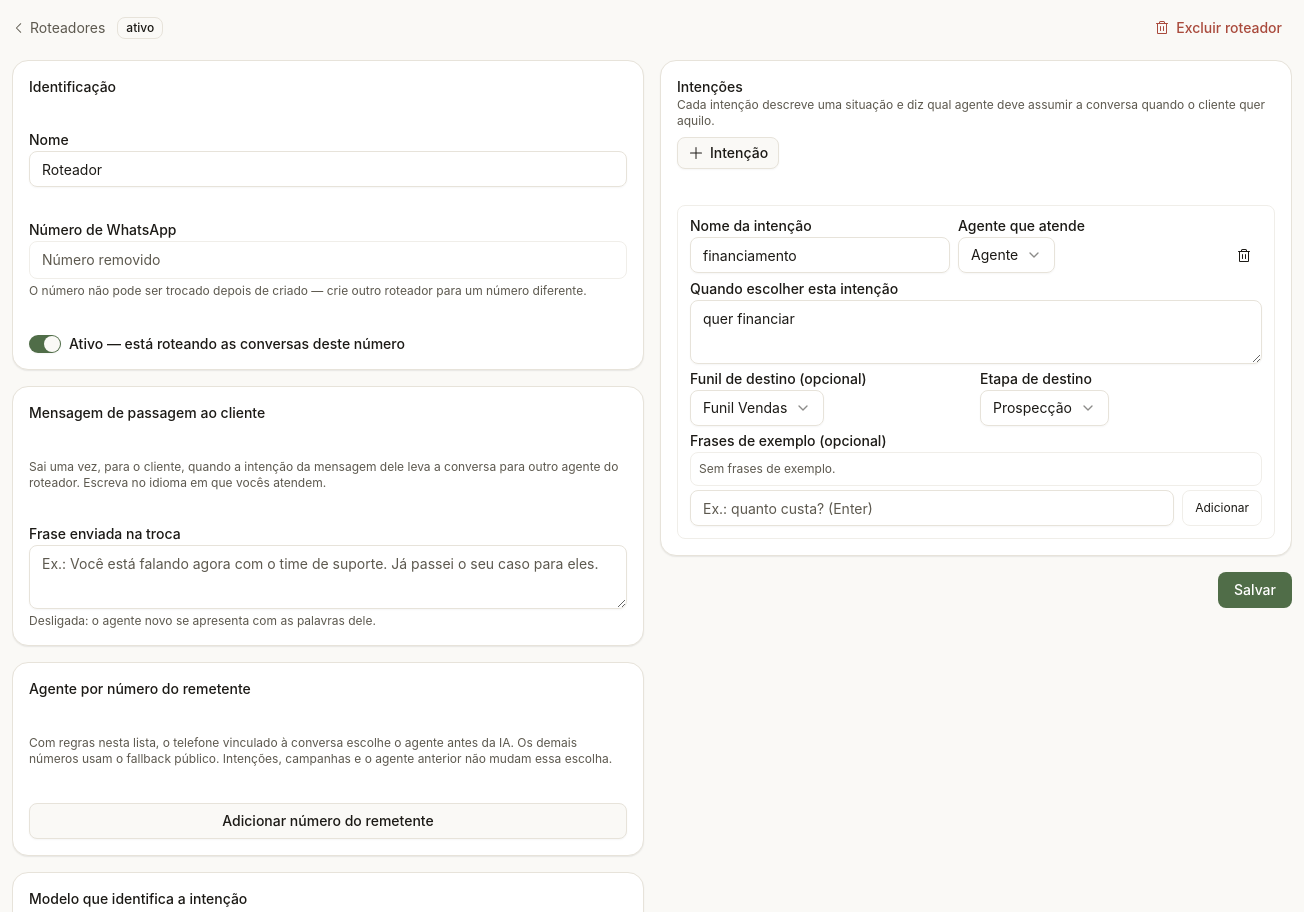
it: destino do funil/etapa já gravado, na primeira renderização (#2569) › trocar o funil limpa a etapa e o que vai para a API leva pipeline_id novo e stage_id nulo
Later steps or results of the test are not shown.
Expected: the dropdown named "Etapa de destino" reads "Prospecção", [980,390,1109,426]
Click the dropdown named "Funil de destino (opcional)": (757, 408) [690,390,824,426]
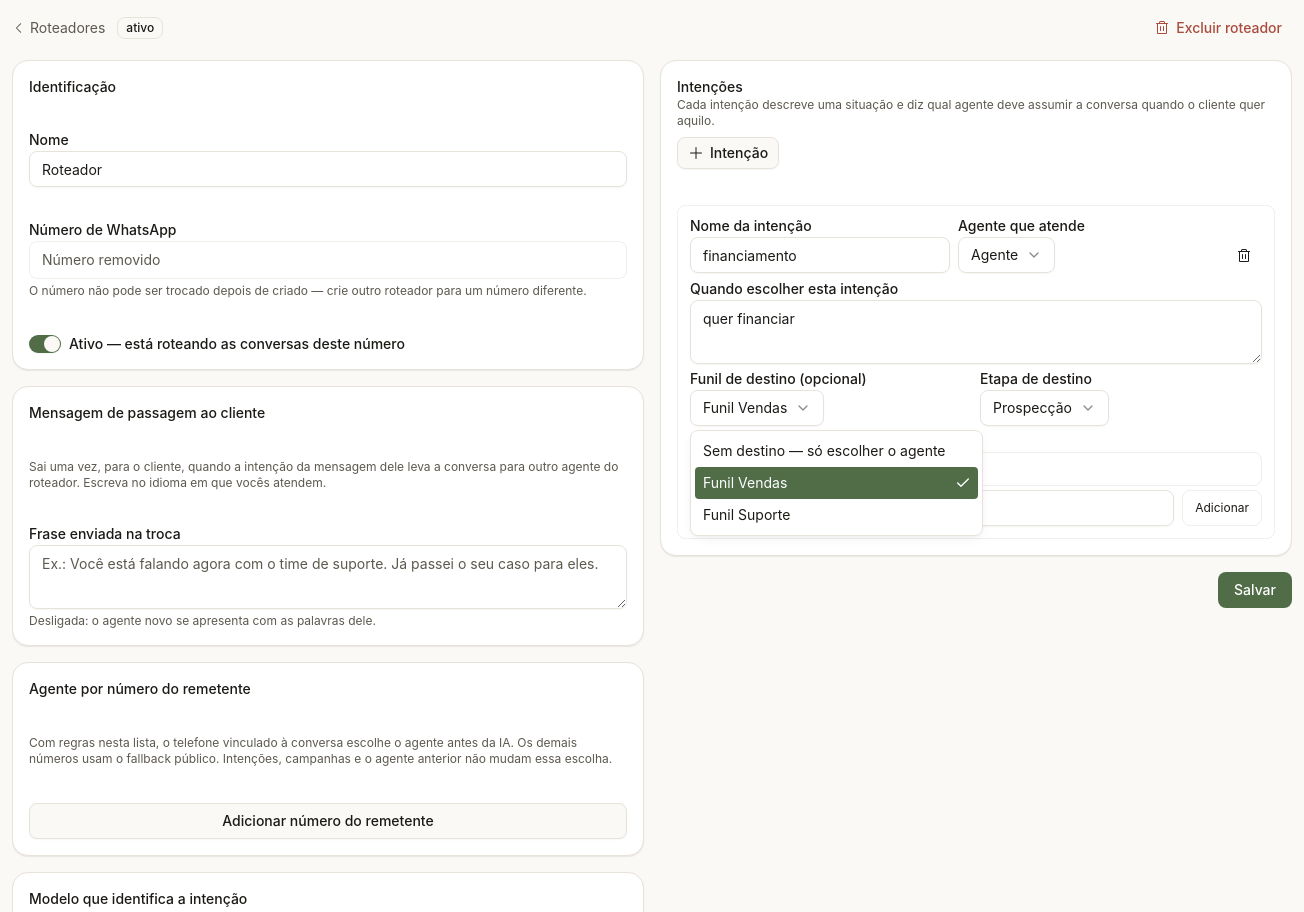
Click the option "Funil Suporte": (747, 514) [703,506,790,523]
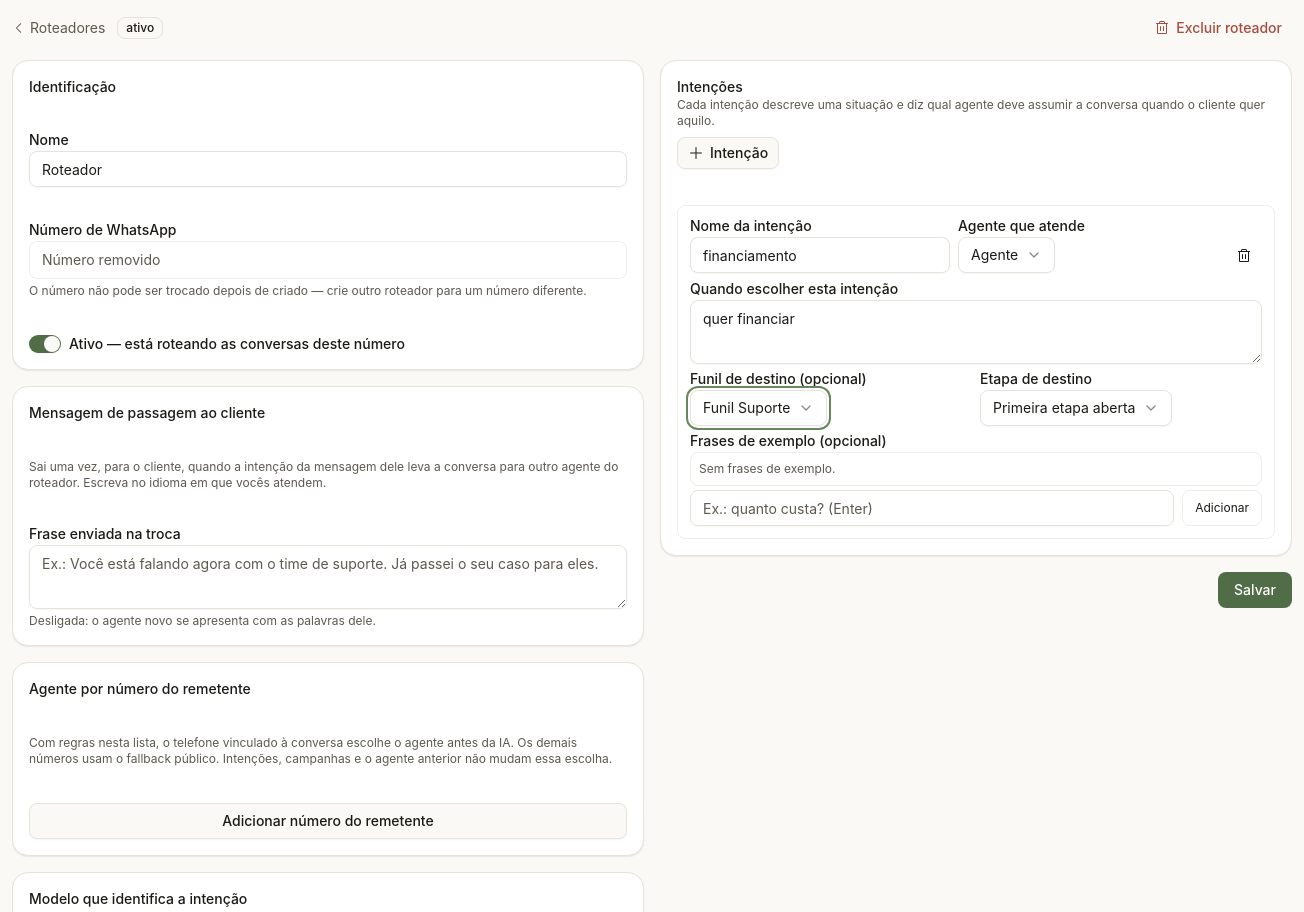
Expected: the dropdown named "Funil de destino (opcional)" reads "Funil Suporte", [690,390,827,426]
Expected: the dropdown named "Etapa de destino" reads "Primeira etapa aberta", [980,390,1172,426]
